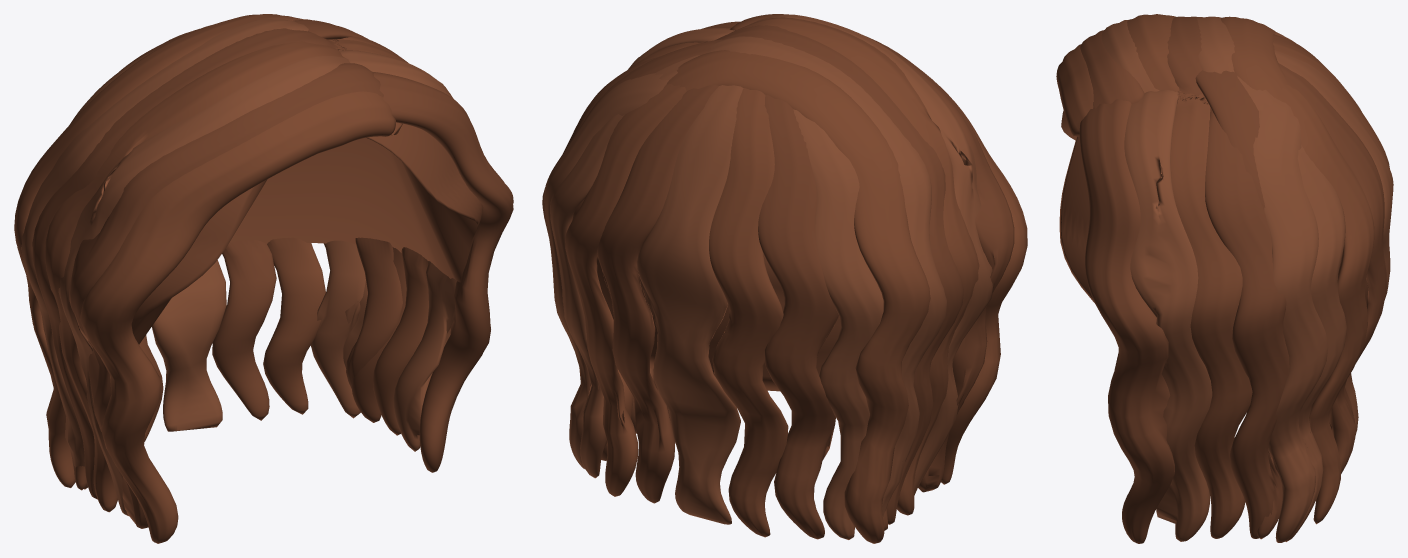
The model's file is Feminine-curls-open-pashmina250-hair.glb.
3 renders of one model, left to right at view 1: azimuth 30°, elevation 25°; view 2: azimuth 150°, elevation 25°; view 3: azimuth 270°, elevation 25°, orthographic. The views are drawn at different scales.
Visible parts, largest first — view 1: 226 hair / Hair / sculpted 0.002, 226 hair / Hair / sculpted 1.004, 226 hair / Hair / sculpted 2.002, 226 hair / Hair / sculpted 1.003; view 2: 226 hair / Hair / sculpted 0.002, 226 hair / Hair / sculpted 2.002, 226 hair / Hair / sculpted 1.004, 226 hair / Hair / sculpted 1.003; view 3: 226 hair / Hair / sculpted 1.004, 226 hair / Hair / sculpted 2.002, 226 hair / Hair / sculpted 0.002, 226 hair / Hair / sculpted 1.003.
Part boxes in pixels (x1,y1,x2,y2): 226 hair / Hair / sculpted 0.002: (14,14,428,543); 226 hair / Hair / sculpted 1.004: (32,20,513,528); 226 hair / Hair / sculpted 2.002: (21,18,485,515); 226 hair / Hair / sculpted 1.003: (131,123,483,344); 226 hair / Hair / sculpted 0.002: (565,17,1027,543); 226 hair / Hair / sculpted 2.002: (544,14,994,539); 226 hair / Hair / sculpted 1.004: (542,14,1014,539); 226 hair / Hair / sculpted 1.003: (572,199,840,391); 226 hair / Hair / sculpted 1.004: (1079,16,1386,543); 226 hair / Hair / sculpted 2.002: (1101,16,1393,542); 226 hair / Hair / sculpted 0.002: (1056,14,1389,538); 226 hair / Hair / sculpted 1.003: (1059,111,1368,304).
Size of the model in its own units: 1.11 by 1.11 by 0.768.
